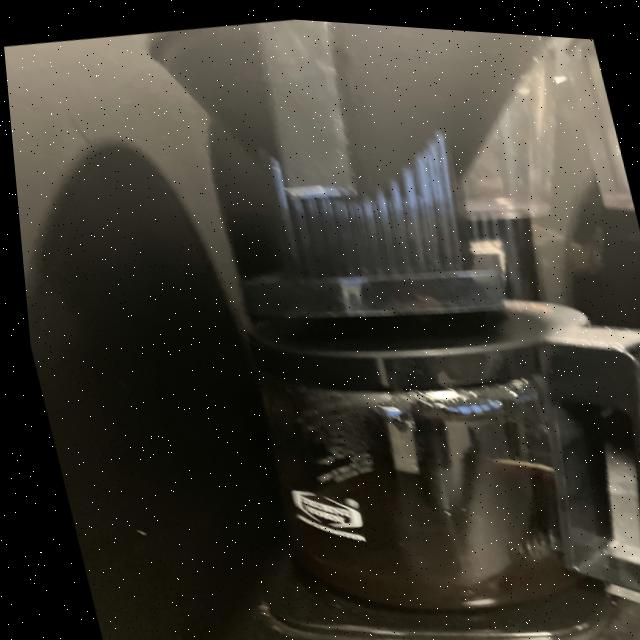coffee: (184, 243, 640, 640)
